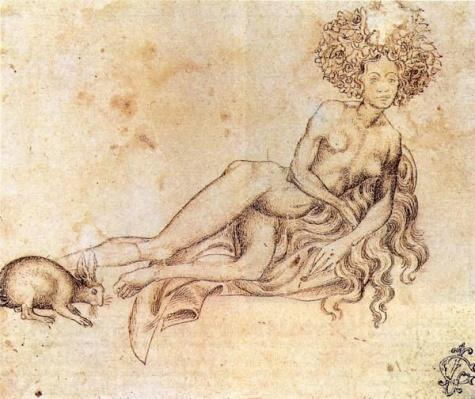person: (25, 10, 448, 301)
